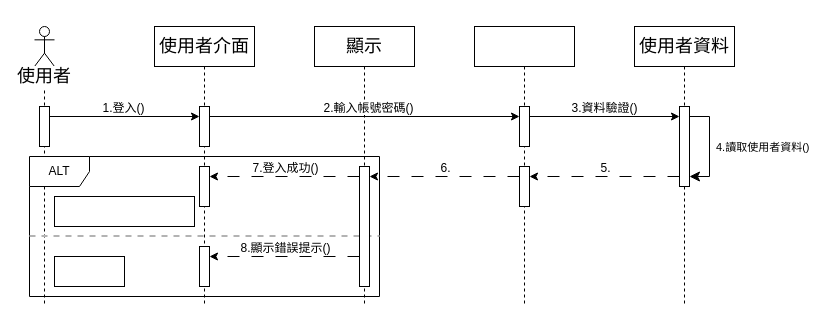
This 827x324 diagram has some shape labels left out. The centre of each missing label's shape, as x and y in pixels:
[ELSE]: the point at 89,271
[IF 帳號密碼正確]: the point at 124,211
登入: the point at 524,166
